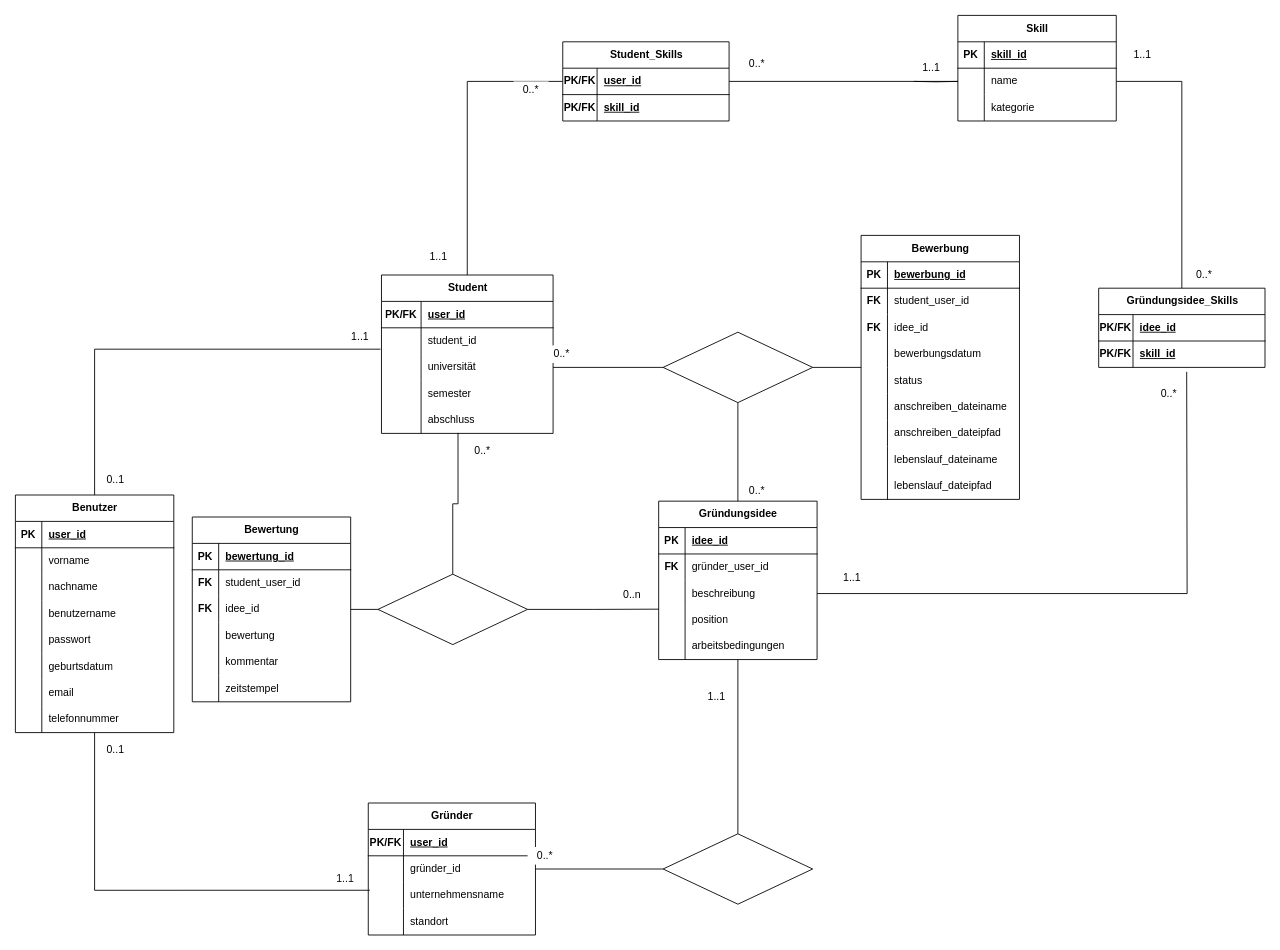
The diagram is 1280 pixels wide and 950 high, and some of its shapes have lost their labels. The shapes that lost their labels are listed below. From the top down, each one's centre as x and y in pixels, then its label:
[737,367]: bewirbt sich
[452,609]: bewertet
[737,868]: veröffentlicht
